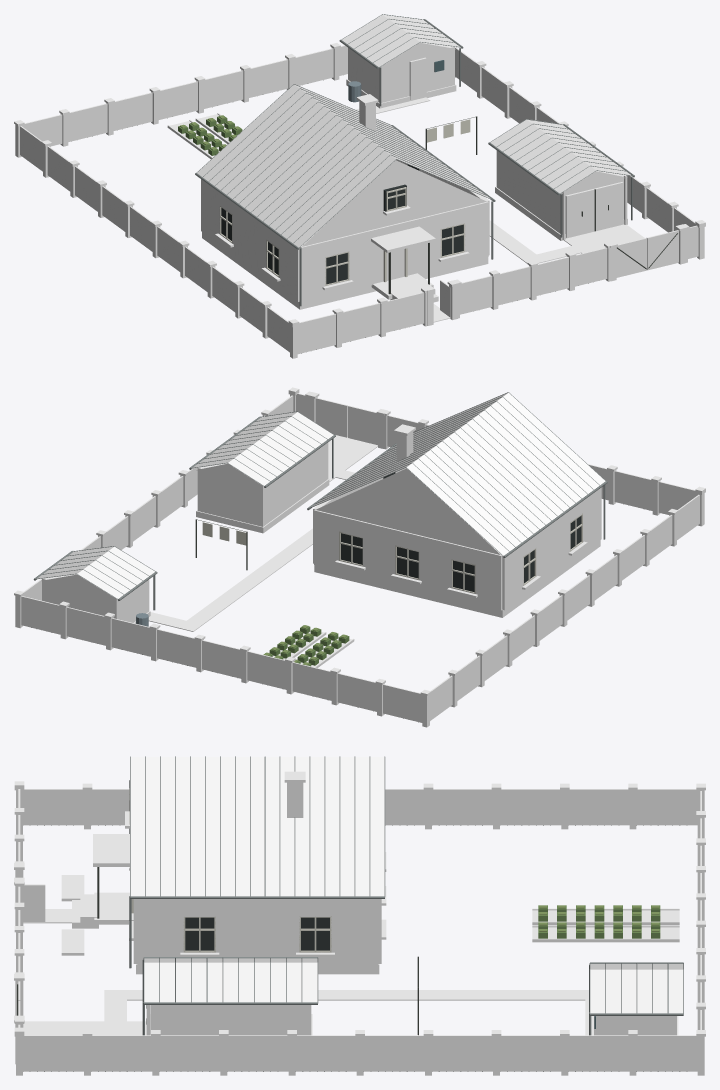
The picture shows the model from 3 angles, top to bottom: view 1: azimuth 30°, elevation 25°; view 2: azimuth 150°, elevation 25°; view 3: azimuth 270°, elevation 25°; orthographic projection. The views are drawn at different scales.
Visible parts, largest first — view 1: ParcelGeometry.008, SummerPlanting.007; view 2: ParcelGeometry.008, SummerPlanting.007; view 3: ParcelGeometry.008, SummerPlanting.007.
Part boxes in pixels (x1,y1,x2,y2): ParcelGeometry.008: (14,14,705,358); SummerPlanting.007: (178,115,470,155); ParcelGeometry.008: (14,387,705,727); SummerPlanting.007: (202,522,349,666); ParcelGeometry.008: (14,756,705,1075); SummerPlanting.007: (538,905,660,938).
Bounding box in the file's own units: 22.13 × 6.76 × 25.84.
